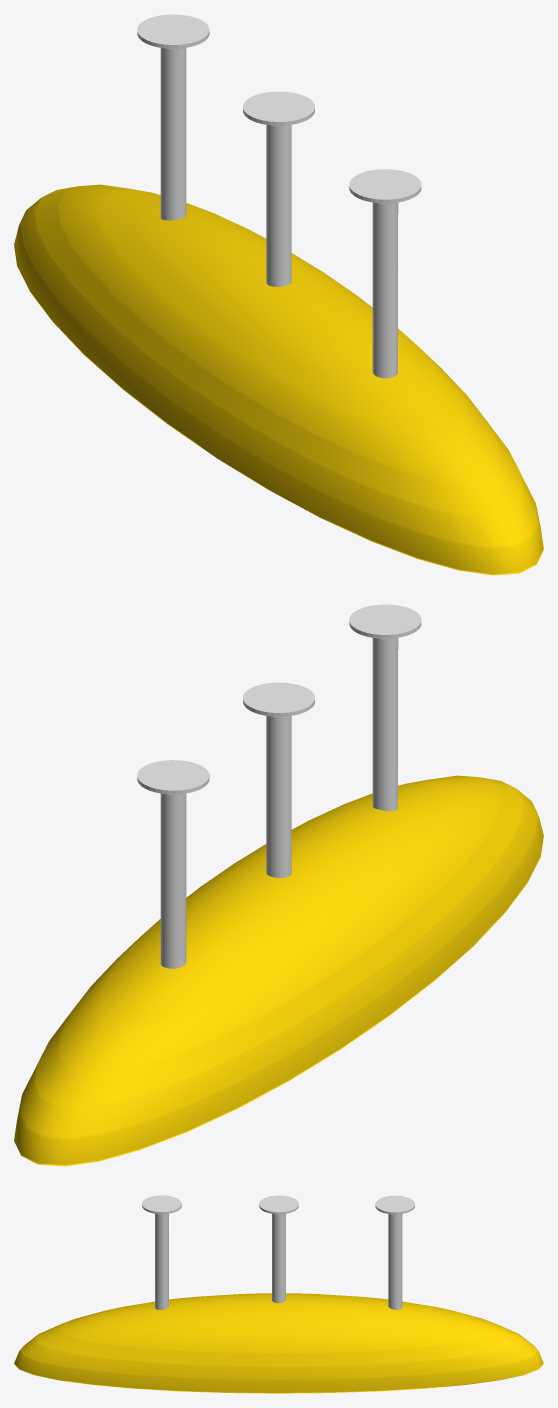
File: Lights.fbx
The picture shows the model from 3 angles, top to bottom: view 1: azimuth 30°, elevation 25°; view 2: azimuth 150°, elevation 25°; view 3: azimuth 270°, elevation 25°; orthographic projection. The views are drawn at different scales.
Visible parts, largest first — view 1: CeilingLights; view 2: CeilingLights; view 3: CeilingLights.
Boxes of the visible parts, box(x1,y1,x2,y2) form: CeilingLights: box(14, 14, 543, 575); CeilingLights: box(14, 604, 543, 1166); CeilingLights: box(14, 1195, 543, 1393).
Size of the model in its own units: 80 by 100 by 300.
